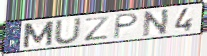4: (174, 7, 195, 33)
M: (22, 20, 56, 49)
N: (142, 8, 171, 38)
P: (111, 12, 140, 40)
U: (53, 16, 83, 45)
Z: (83, 15, 112, 42)
